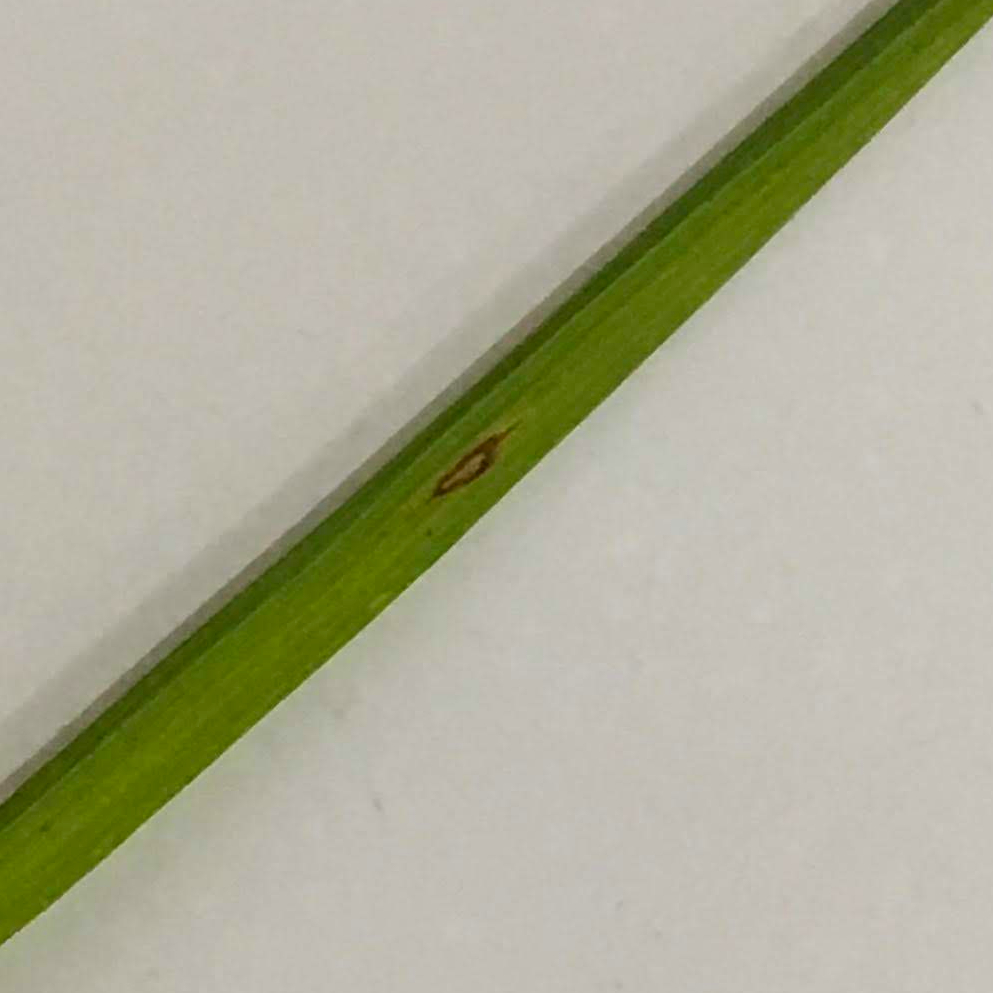leaf blast: (1, 3, 984, 940)
